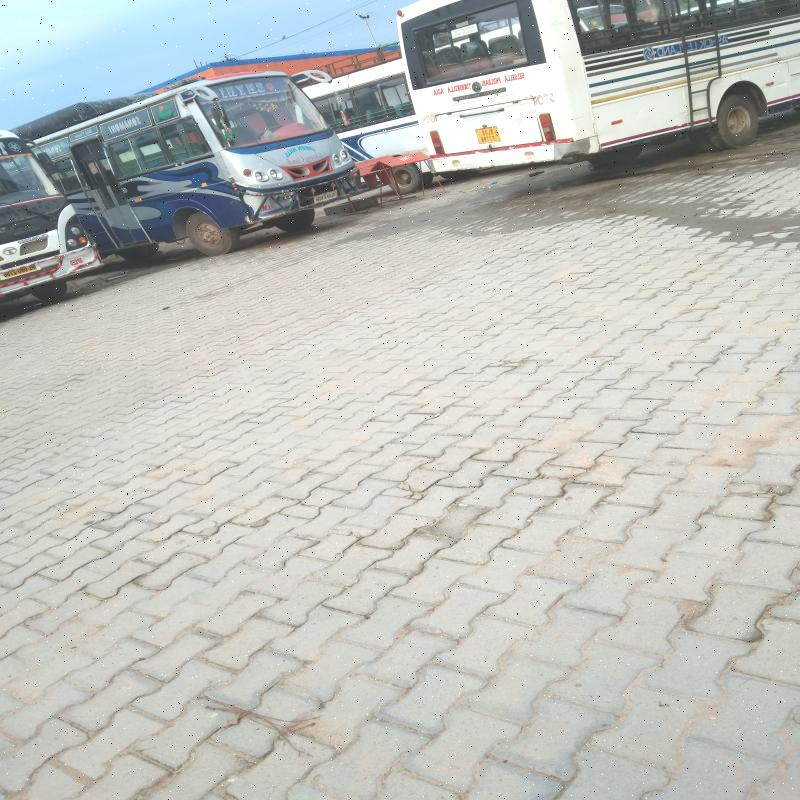bus: (420, 4, 798, 181)
